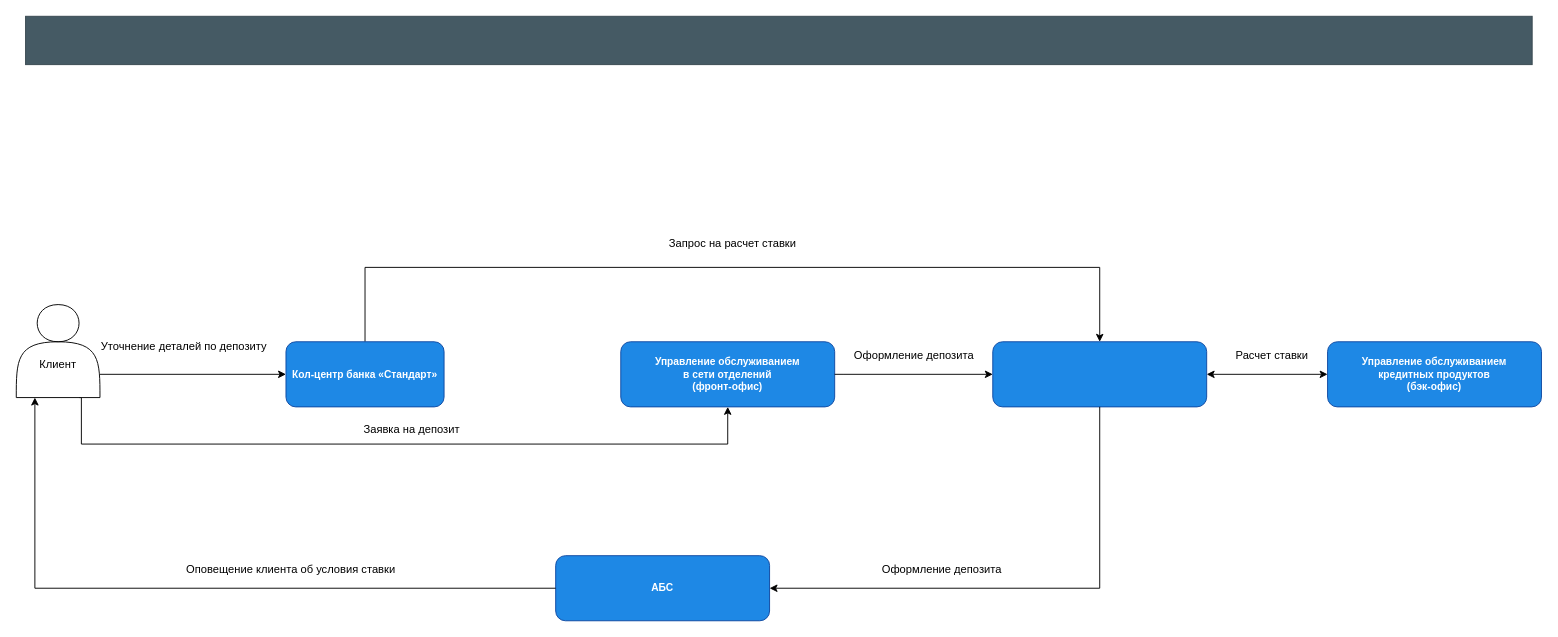
The diagram is 1558 pixels wide and 637 high, and some of its shapes have lost their labels. The shapes that lost their labels are listed below. From the top down, each one's box as (x1, y1, x2, y2) in pixels, then its label:
(25, 15, 1532, 65): Диаграмма интеграции приложений
(992, 341, 1207, 407): Управление обслуживанием депозитных продуктов (бэк-офис)
